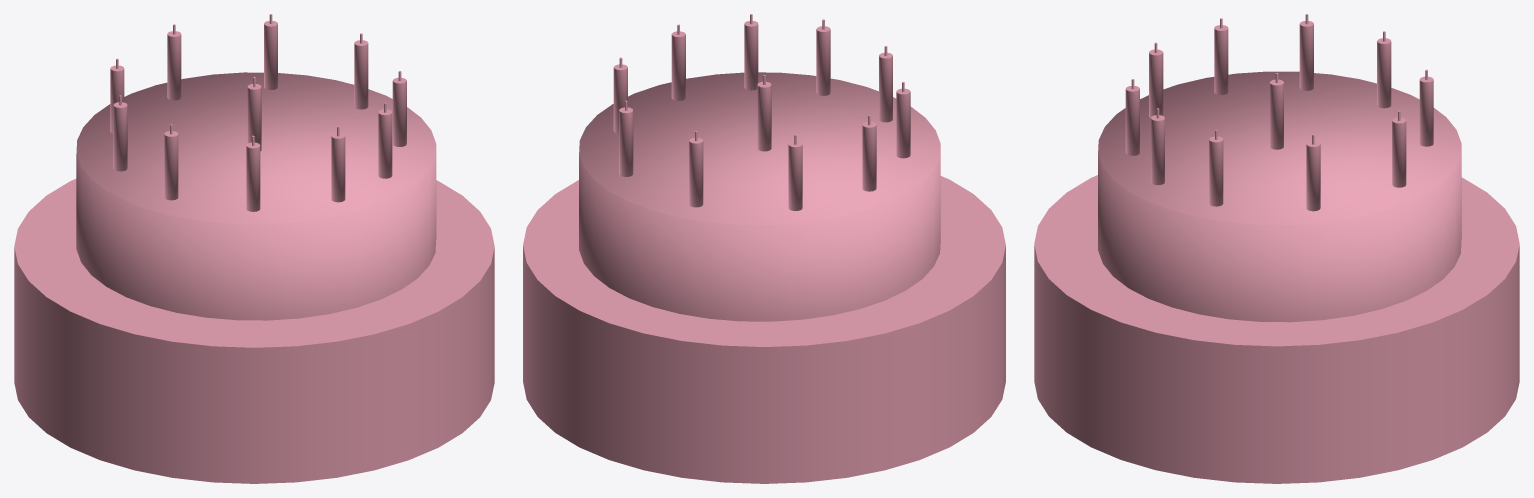
The model's file is Cake_Low.fbx.
The picture shows the model from 3 angles, left to right: view 1: azimuth 30°, elevation 25°; view 2: azimuth 150°, elevation 25°; view 3: azimuth 270°, elevation 25°; orthographic projection.
Visible parts, largest first — view 1: Cake_ThEdit; view 2: Cake_ThEdit; view 3: Cake_ThEdit.
Part boxes in pixels (box(x1,y1,x2,y2)): Cake_ThEdit: box(14, 14, 494, 483); Cake_ThEdit: box(523, 14, 1005, 483); Cake_ThEdit: box(1034, 14, 1519, 483).
Size of the model in its own units: 29.96 by 20.97 by 29.96.
